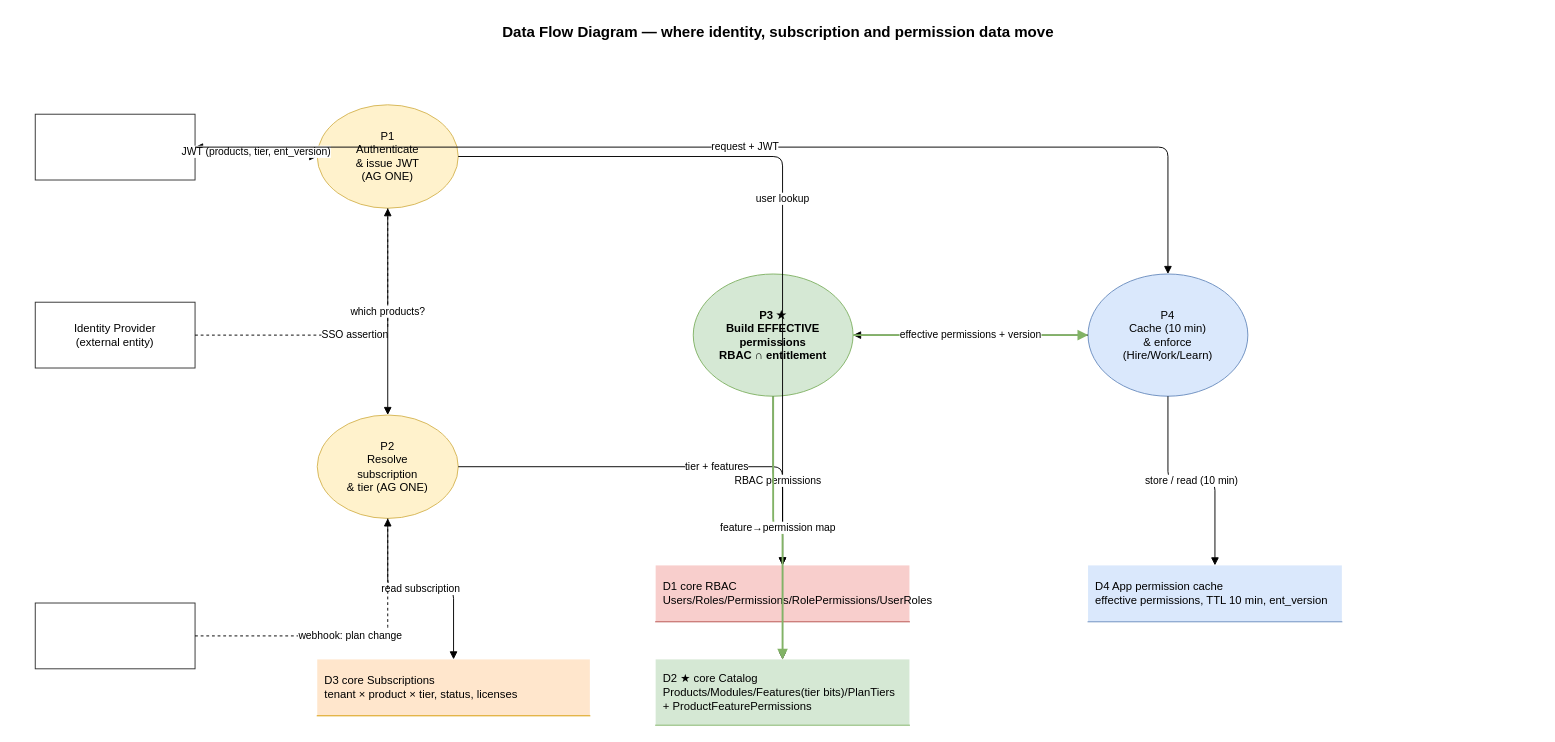
Image size: 1555x742. Some labels were removed from this diagram. The shapes that lost their labels are listed below. From the top down, each one's centre as x and y in pixels, then its label:
point 114,146: User / Browser (external entity)
point 114,635: Payment provider (external entity)
